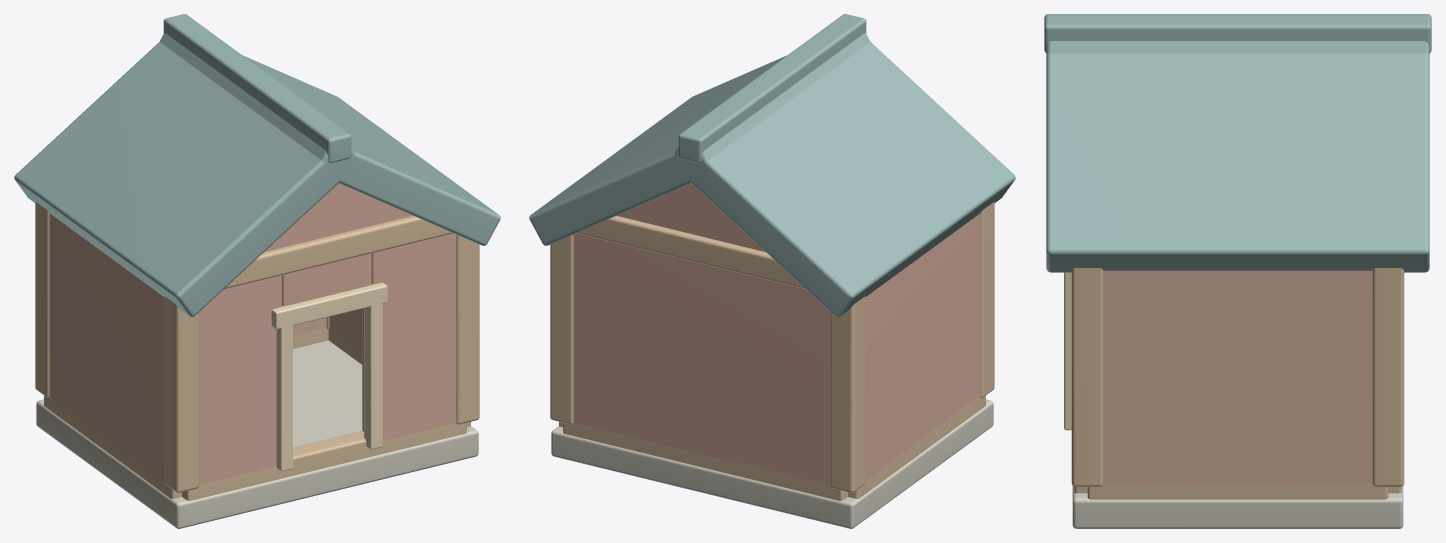
File: feed-store-roof.glb
3 renders of one model, left to right at view 1: azimuth 30°, elevation 25°; view 2: azimuth 150°, elevation 25°; view 3: azimuth 270°, elevation 25°, orthographic. The views are drawn at different scales.
Visible parts, largest first — view 1: Padded roof plane.008, Side panel.008, Rounded stone footing.010, Front cladding.005, Front cladding.004, Padded roof plane.009, Corner post.028, Ridge cap.004, Eave beam.014, Sill beam.040, Corner post.030, Gable cladding.008 (+7 smaller); view 2: Back panel.002, Padded roof plane.008, Side panel.008, Padded roof plane.009, Rounded stone footing.010, Corner post.029, Ridge cap.004, Eave beam.015, Corner post.031, Sill beam.041, Gable cladding.009, Corner post.028 (+1 smaller); view 3: Padded roof plane.009, Side panel.009, Ridge cap.004, Rounded stone footing.010, Corner post.030, Corner post.031, Sill beam.043, Padded roof plane.008, Front door jamb.005.
Part boxes in pixels (box(x1,y1,x2,y2)): Padded roof plane.008: box(14, 42, 358, 316); Side panel.008: box(49, 213, 164, 480); Rounded stone footing.010: box(36, 340, 478, 528); Front cladding.005: box(362, 233, 456, 440); Front cladding.004: box(199, 275, 281, 485); Padded roof plane.009: box(159, 33, 500, 245); Corner post.028: box(164, 296, 199, 492); Ridge cap.004: box(163, 14, 351, 163); Eave beam.014: box(224, 216, 452, 288); Sill beam.040: box(182, 422, 466, 500); Corner post.030: box(456, 234, 479, 424); Gable cladding.008: box(264, 183, 412, 251); Back panel.002: box(573, 233, 830, 485); Padded roof plane.008: box(672, 42, 1015, 316); Side panel.008: box(865, 213, 980, 480); Padded roof plane.009: box(529, 33, 870, 245); Rounded stone footing.010: box(551, 399, 993, 528); Corner post.029: box(830, 296, 865, 492); Ridge cap.004: box(678, 14, 866, 163); Eave beam.015: box(577, 216, 805, 288); Corner post.031: box(550, 234, 573, 424); Sill beam.041: box(563, 422, 847, 500); Gable cladding.009: box(617, 183, 765, 251); Corner post.028: box(980, 201, 994, 397); Padded roof plane.009: box(1046, 53, 1429, 272); Side panel.009: box(1103, 270, 1372, 483); Ridge cap.004: box(1044, 14, 1431, 52); Rounded stone footing.010: box(1072, 486, 1403, 528); Corner post.030: box(1071, 268, 1103, 486); Corner post.031: box(1372, 268, 1404, 486); Sill beam.043: box(1087, 481, 1388, 499); Padded roof plane.008: box(1046, 41, 1429, 54); Front door jamb.005: box(1064, 272, 1071, 430).
Size of the model in its own units: 2.32 by 2.5 by 2.06.
